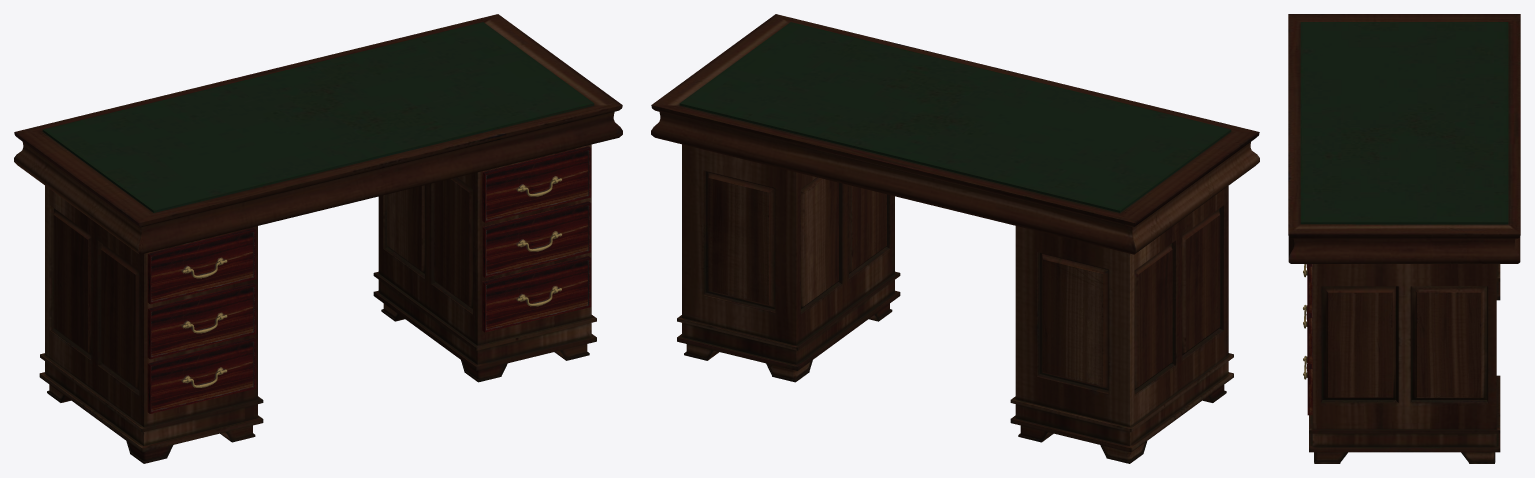
3 views of the same model, side by side, from view 1: azimuth 30°, elevation 25°; view 2: azimuth 150°, elevation 25°; view 3: azimuth 270°, elevation 25° (orthographic). The views are drawn at different scales.
Visible parts, largest first — view 1: Desk_LP.001, Drawer_LP.002, Drawer_LP.003, Drawer_LP.001, Drawer_LP.005, Drawer_LP.006, Drawer_LP.004; view 2: Desk_LP.001; view 3: Desk_LP.001, Drawer_LP.002, Drawer_LP.001, Drawer_LP.003.
Part boxes in pixels (box(x1,y1,x2,y2)): Desk_LP.001: box(14, 14, 622, 463); Drawer_LP.002: box(482, 201, 591, 277); Drawer_LP.003: box(482, 146, 591, 222); Drawer_LP.001: box(482, 256, 591, 332); Drawer_LP.005: box(147, 283, 256, 359); Drawer_LP.006: box(147, 228, 256, 304); Drawer_LP.004: box(147, 337, 256, 413); Desk_LP.001: box(651, 14, 1259, 463); Desk_LP.001: box(1288, 14, 1520, 463); Drawer_LP.002: box(1303, 276, 1312, 363); Drawer_LP.001: box(1303, 356, 1312, 415); Drawer_LP.003: box(1303, 264, 1312, 312).
Size of the model in its own units: 194 by 98.4 by 86.27.
2 materials, 2 textured.
